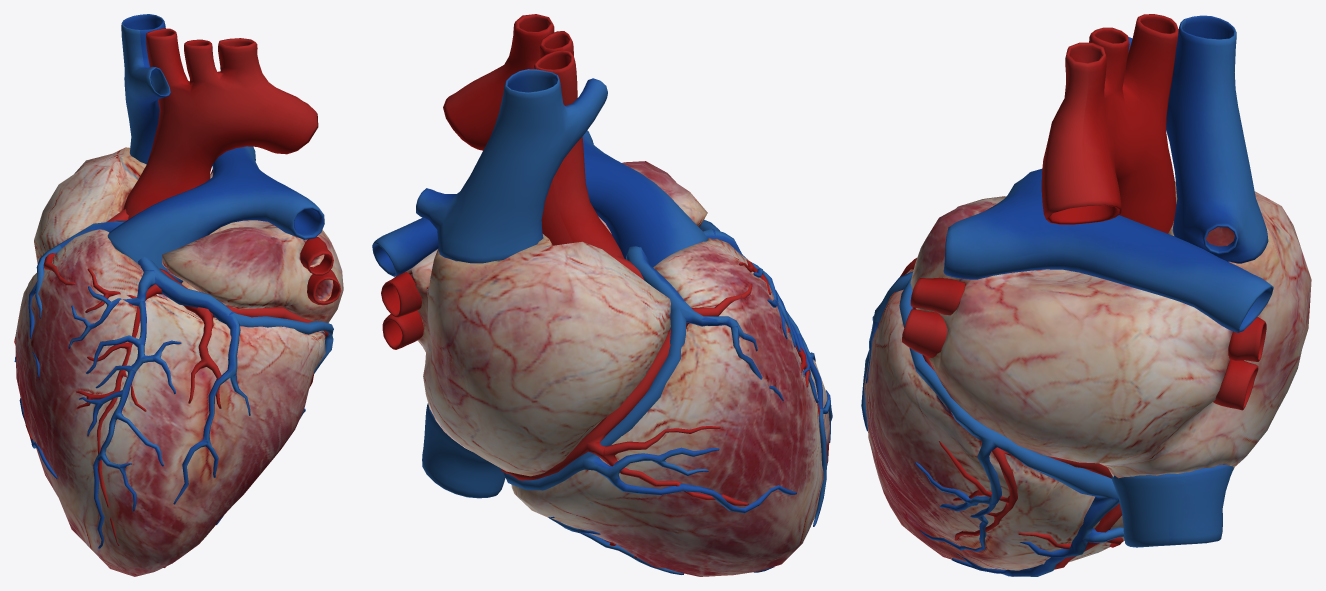
The model's file is CoHA_Obj_Heart.fbx.
The picture shows the model from 3 angles, left to right: view 1: azimuth 30°, elevation 25°; view 2: azimuth 150°, elevation 25°; view 3: azimuth 270°, elevation 25°; orthographic projection. The views are drawn at different scales.
Parts seen in each view (by area): view 1: Human Heart; view 2: Human Heart; view 3: Human Heart.
Part boxes in pixels (bbox=[...]): Human Heart: bbox=[14, 14, 343, 576]; Human Heart: bbox=[372, 14, 832, 576]; Human Heart: bbox=[861, 14, 1311, 576].
Size of the model in its own units: 68.17 by 105 by 71.57.
1 material, 1 textured.
